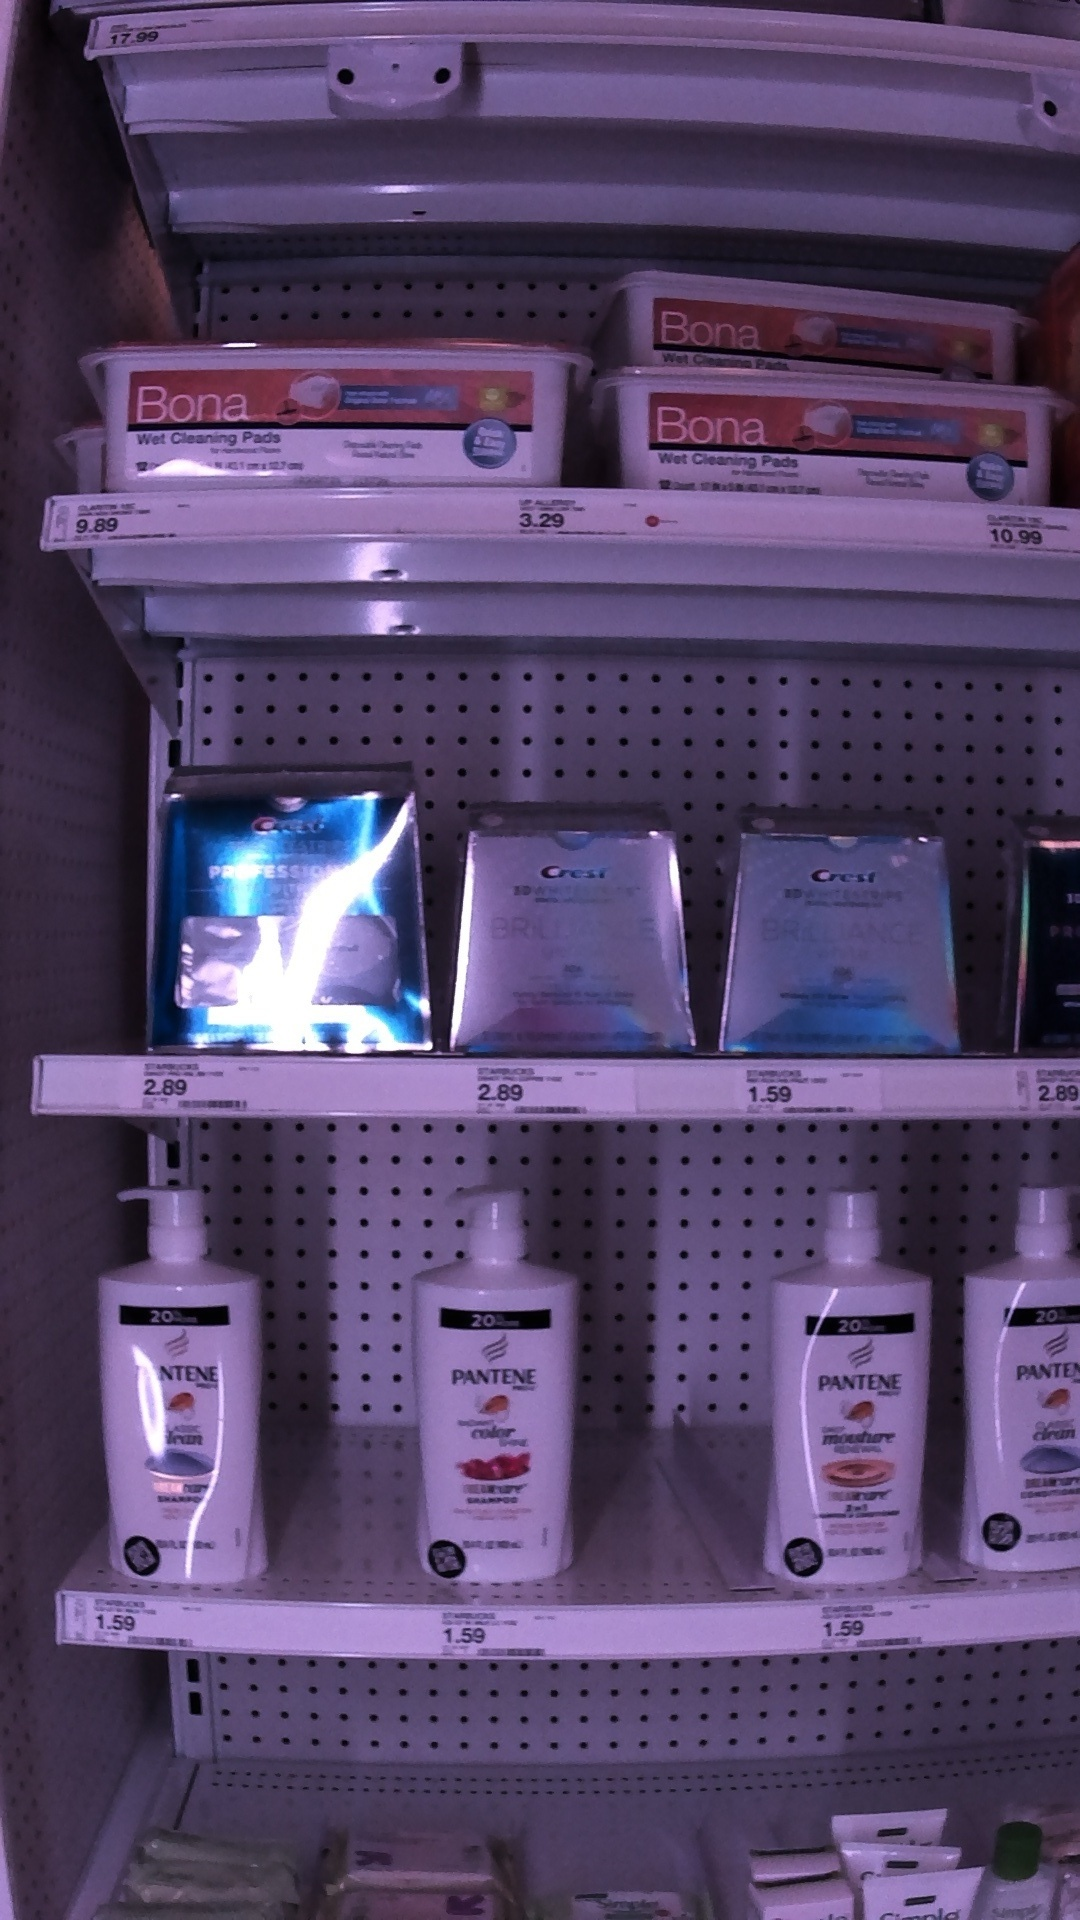ptag: (458, 1048, 651, 1131), (500, 480, 686, 553), (120, 1036, 276, 1120), (723, 1051, 889, 1122), (55, 1580, 211, 1654), (38, 489, 200, 555), (957, 497, 1080, 566), (806, 1597, 951, 1654), (86, 3, 225, 61), (425, 1606, 574, 1660)
